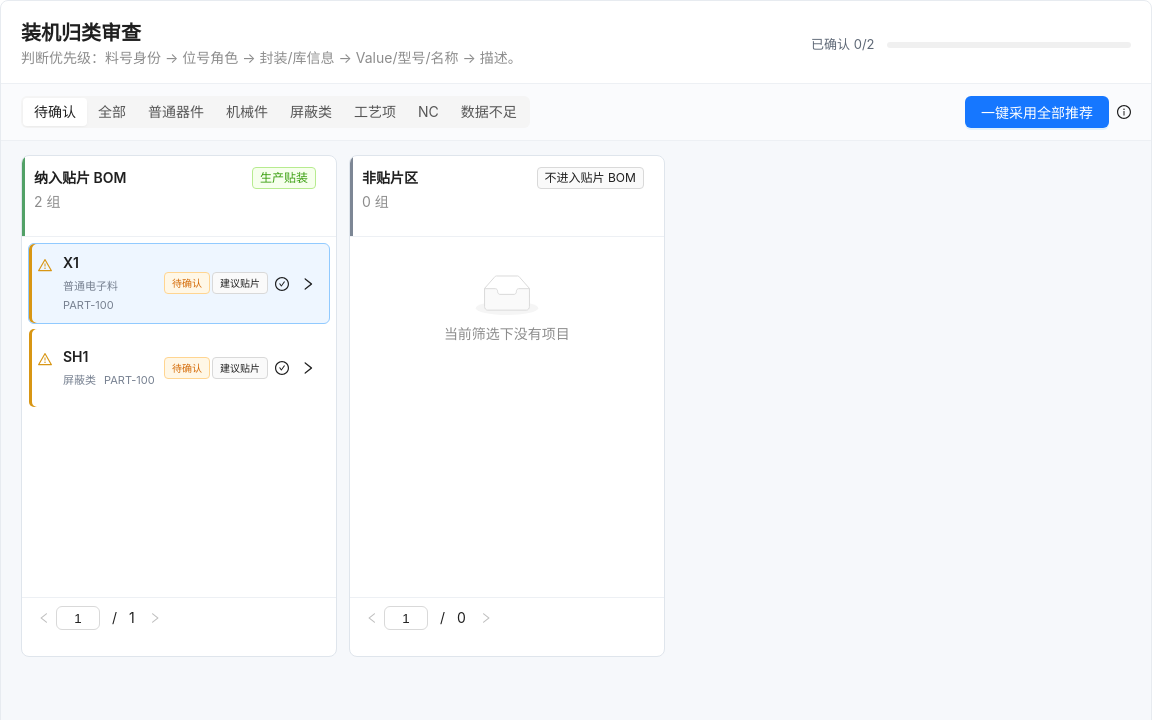
Scenario: BOM placement review v2 › batch applies every available recommendation across categories
Click the button "一键采用全部推荐" at (1037, 112), box [965,96,1109,128]
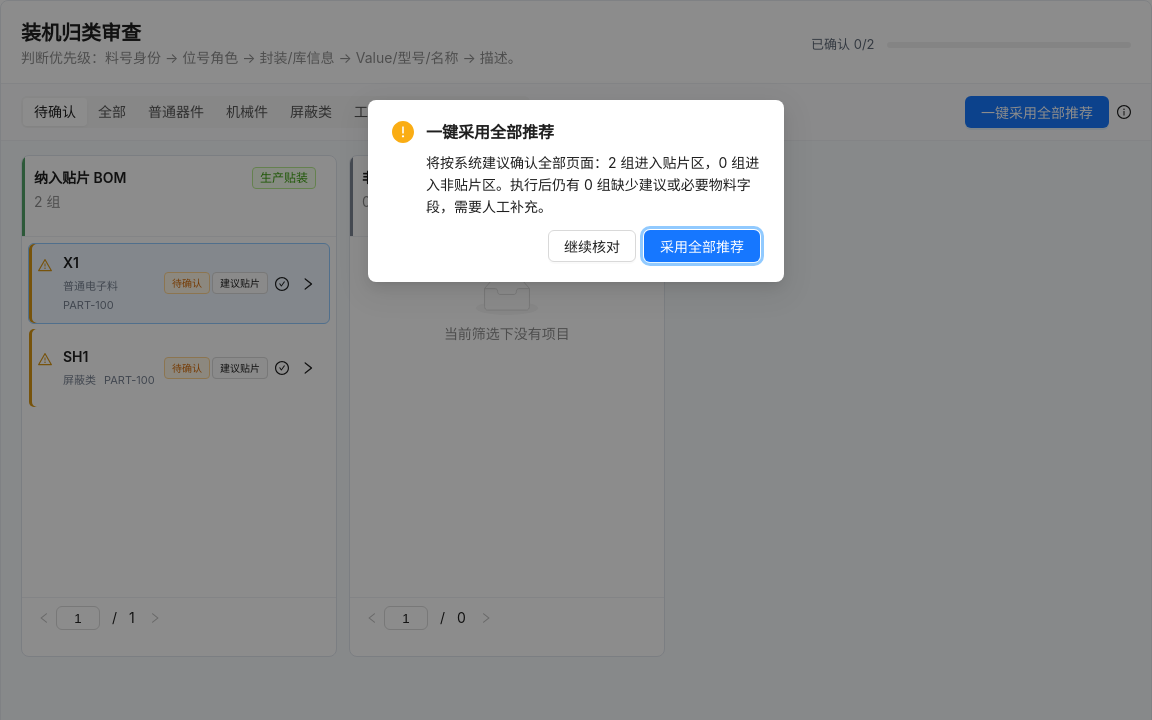
Check: the text "将按系统建议确认全部页面：2 组进入贴片区，0 组进入非贴片区。执行后仍有 0 组缺少建议或必要物料字段，需要人工补充。" is shown, box [426,152,760,218]
Click the button "采用全部推荐" at (702, 246), box [644,230,760,262]
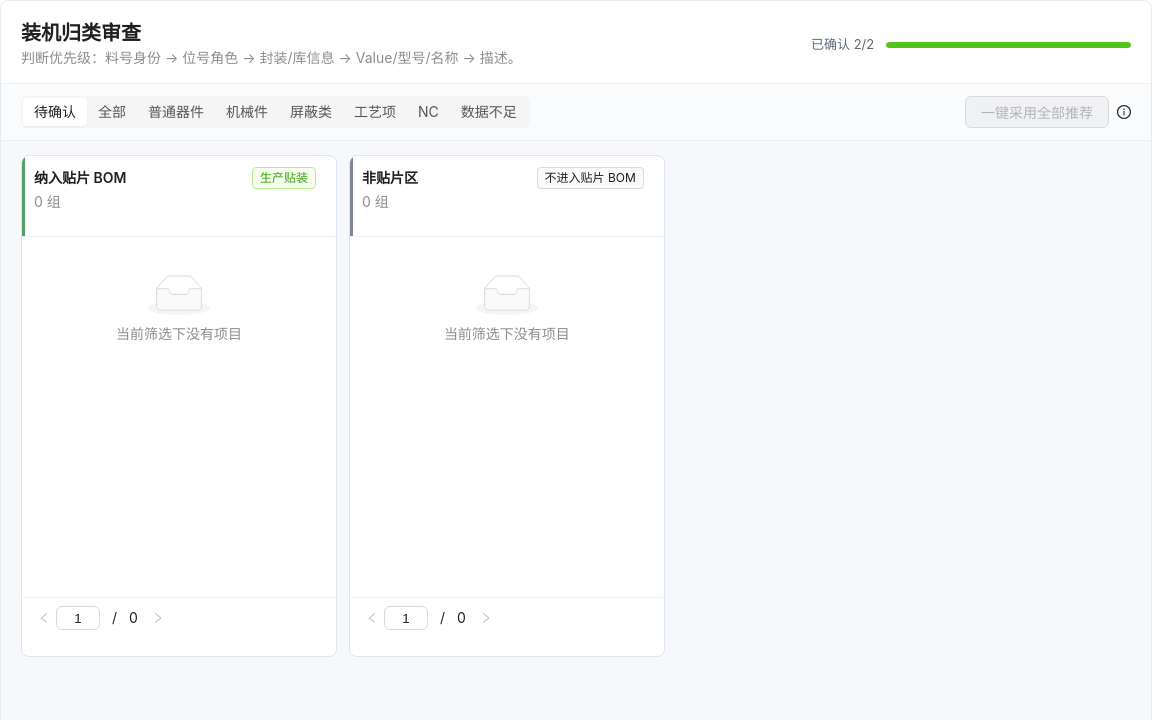
Check: the text "已确认 2/2" is shown, box [811,34,874,54]
